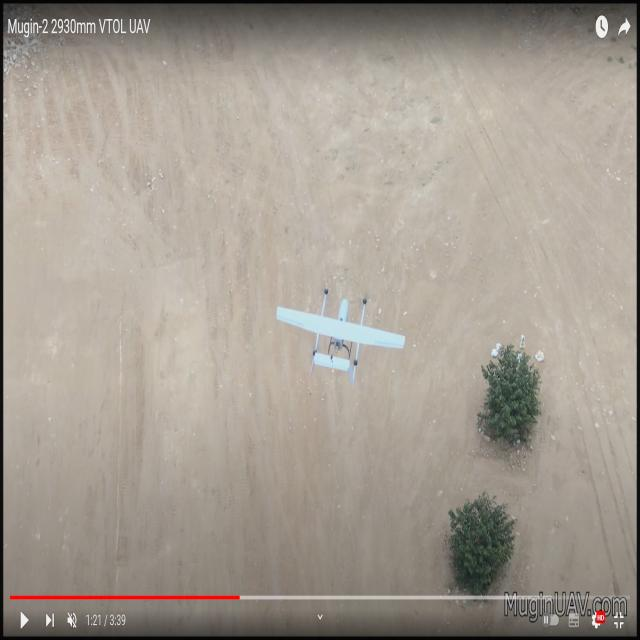iha: (310, 298, 371, 343)
